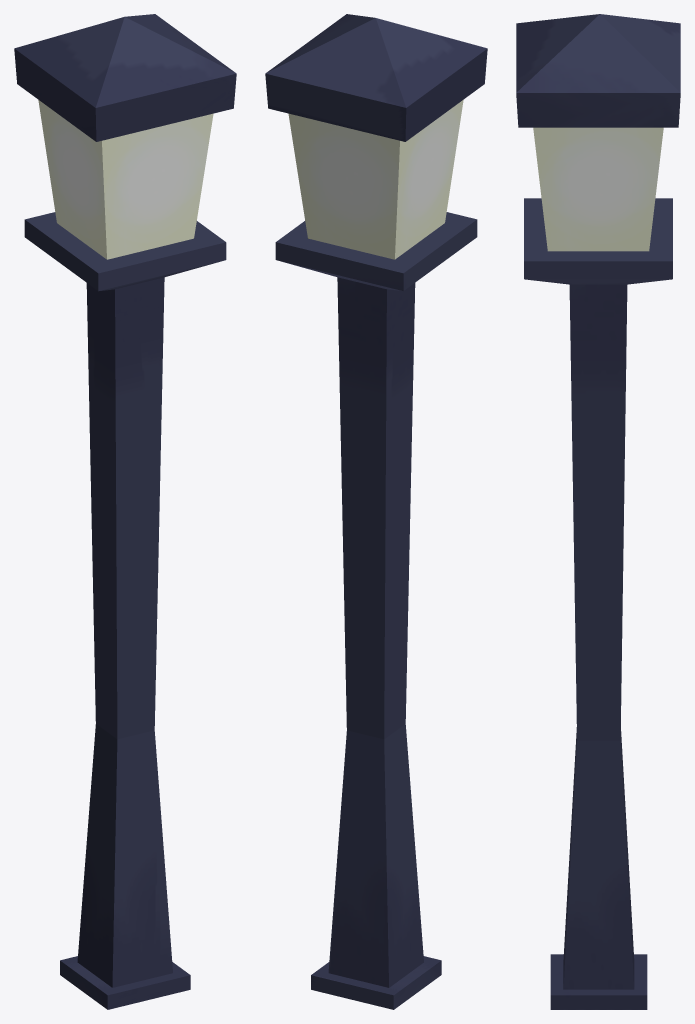
The model's file is street_light.glb.
3 views of the same model, side by side, from view 1: azimuth 30°, elevation 25°; view 2: azimuth 150°, elevation 25°; view 3: azimuth 270°, elevation 25° (orthographic).
Parts seen in each view (by area): view 1: lamp; view 2: lamp; view 3: lamp.
Boxes of the visible parts, <box> form: lamp: <box>14,14,236,1009</box>; lamp: <box>265,14,487,1009</box>; lamp: <box>516,14,680,1009</box>.
Size of the model in its own units: 0.7842 by 5.13 by 0.784.
Materials: 1 (1 with a texture image).
